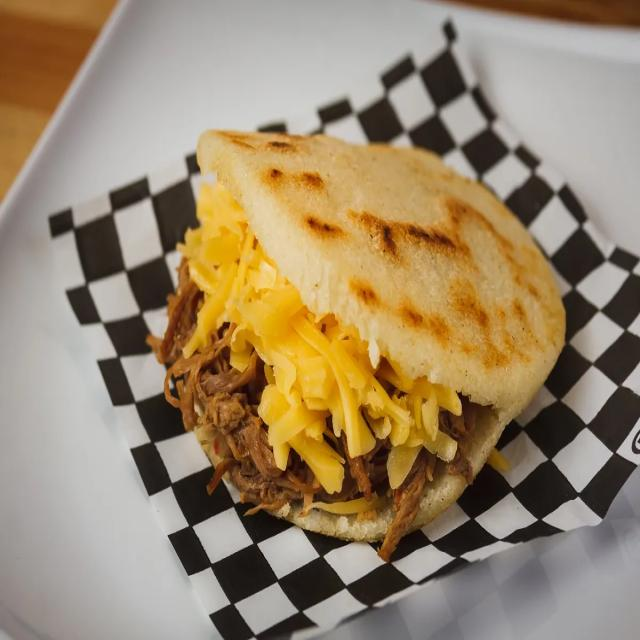arepa: (193, 113, 571, 405)
